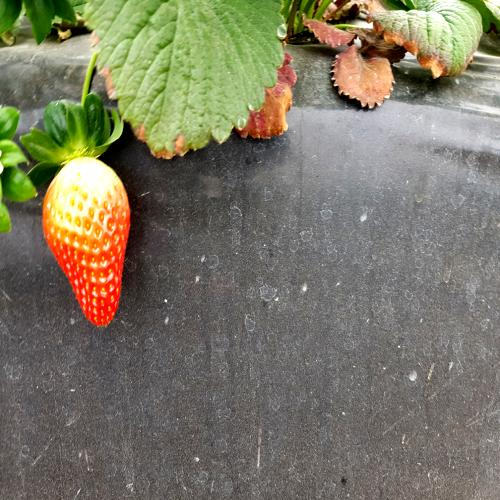ripe: (31, 153, 156, 337)
